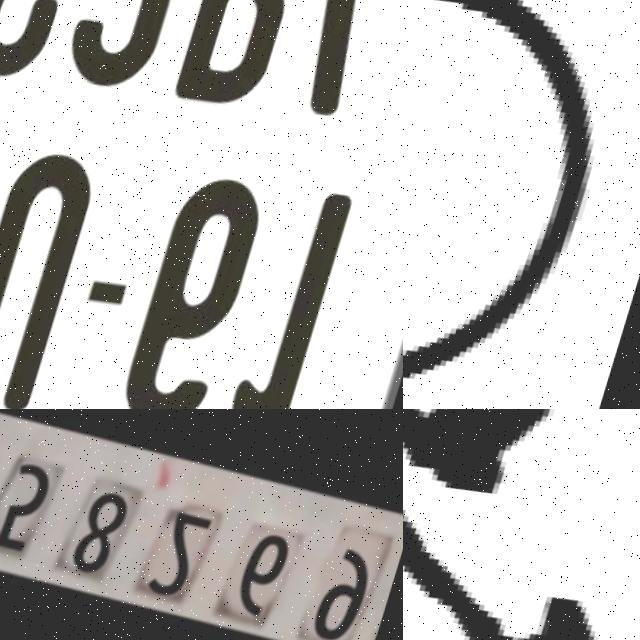1: (228, 195, 363, 409)
2: (133, 505, 225, 618)
3: (57, 0, 222, 104)
4: (279, 0, 403, 141)
5: (0, 452, 70, 568)
6: (403, 409, 640, 640), (120, 171, 276, 409), (217, 528, 308, 638)
8: (56, 481, 148, 593)
9: (299, 545, 392, 640)
P: (403, 0, 600, 383)
R: (171, 0, 331, 120)
S: (0, 0, 112, 92)
U: (0, 137, 108, 409)
